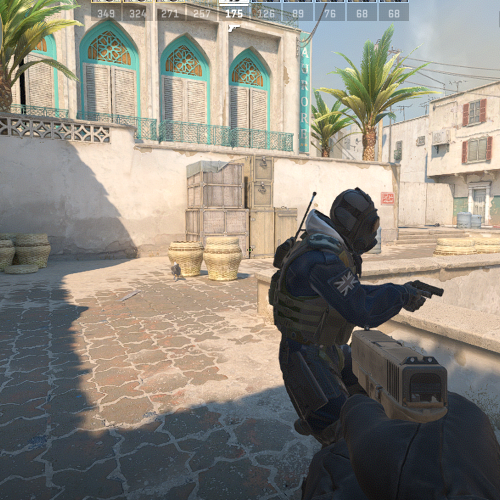chicken: (170, 261, 183, 280)
ct_body: (271, 188, 387, 469)
ct_head: (330, 190, 381, 253)
